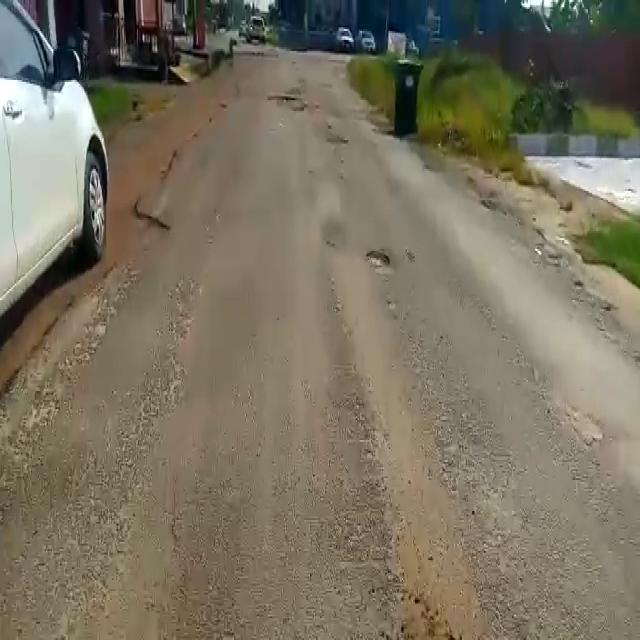Pothole: (364, 247, 398, 273)
